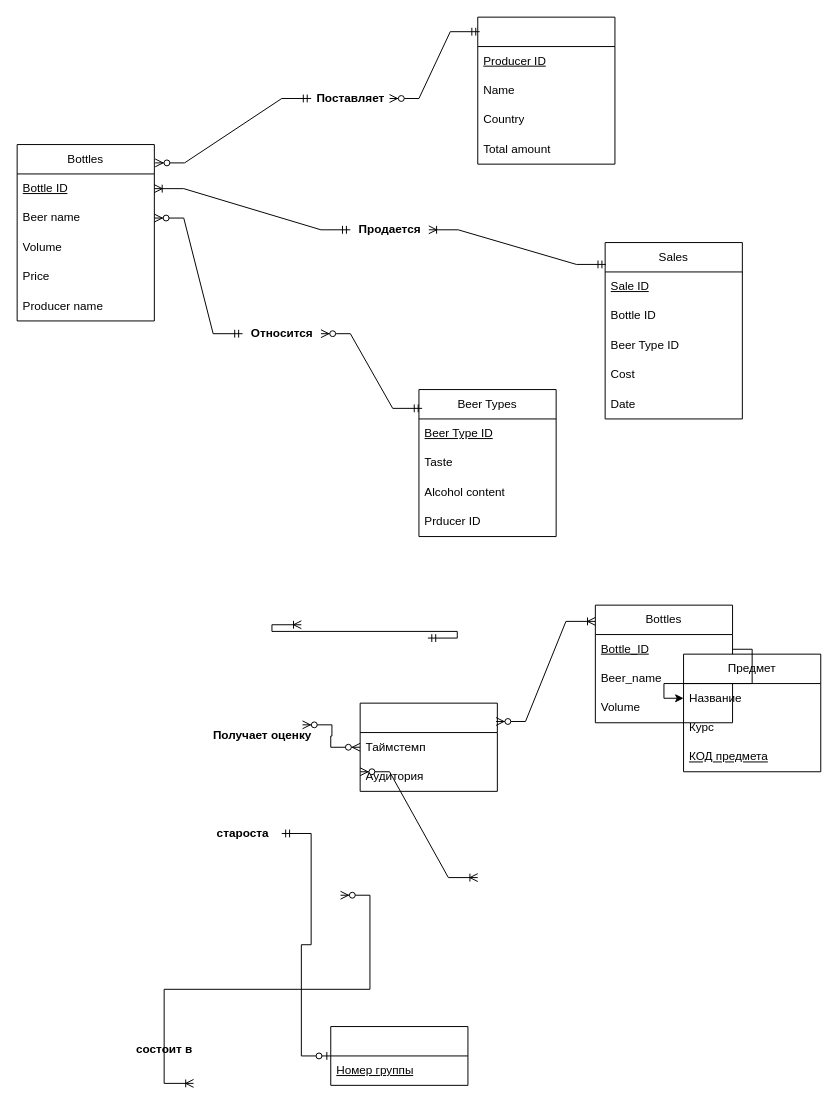
Some shapes in this 838 by 1109 pixel diagram are drawn without their labels. Each missing label, with the box of its shape:
Produsers: (477, 16, 615, 164)
Группа: (330, 1026, 468, 1085)
Экзамен: (359, 702, 497, 791)
